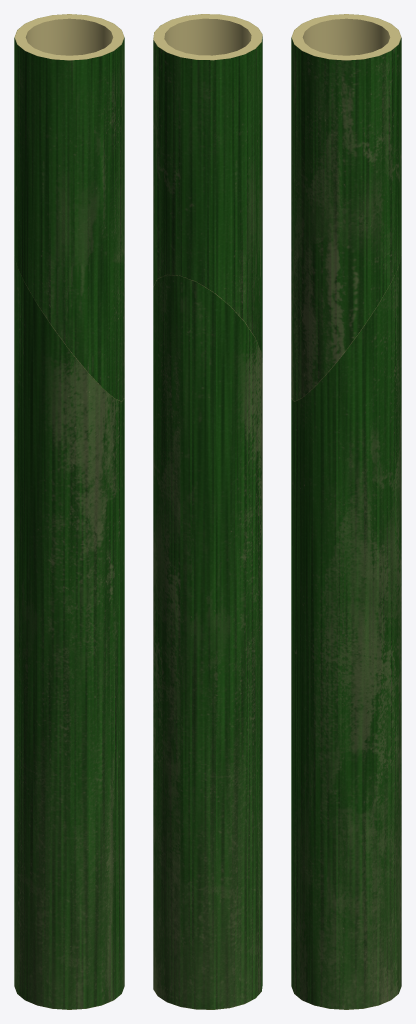
File: bamboo05.fbx
3 renders of one model, left to right at view 1: azimuth 90°, elevation 25°; view 2: azimuth 150°, elevation 25°; view 3: azimuth 270°, elevation 25°, orthographic.
Visible parts, largest first — view 1: bamboo05_down, bamboo05_up; view 2: bamboo05_down, bamboo05_up; view 3: bamboo05_down, bamboo05_up.
Part boxes in pixels (x1,y1,x2,y2): bamboo05_down: (14, 256, 124, 1009); bamboo05_up: (14, 14, 124, 401); bamboo05_down: (153, 275, 262, 1009); bamboo05_up: (153, 14, 262, 363); bamboo05_down: (291, 256, 401, 1009); bamboo05_up: (291, 14, 401, 401).
Size of the model in its own units: 23.1 by 220 by 23.1.
